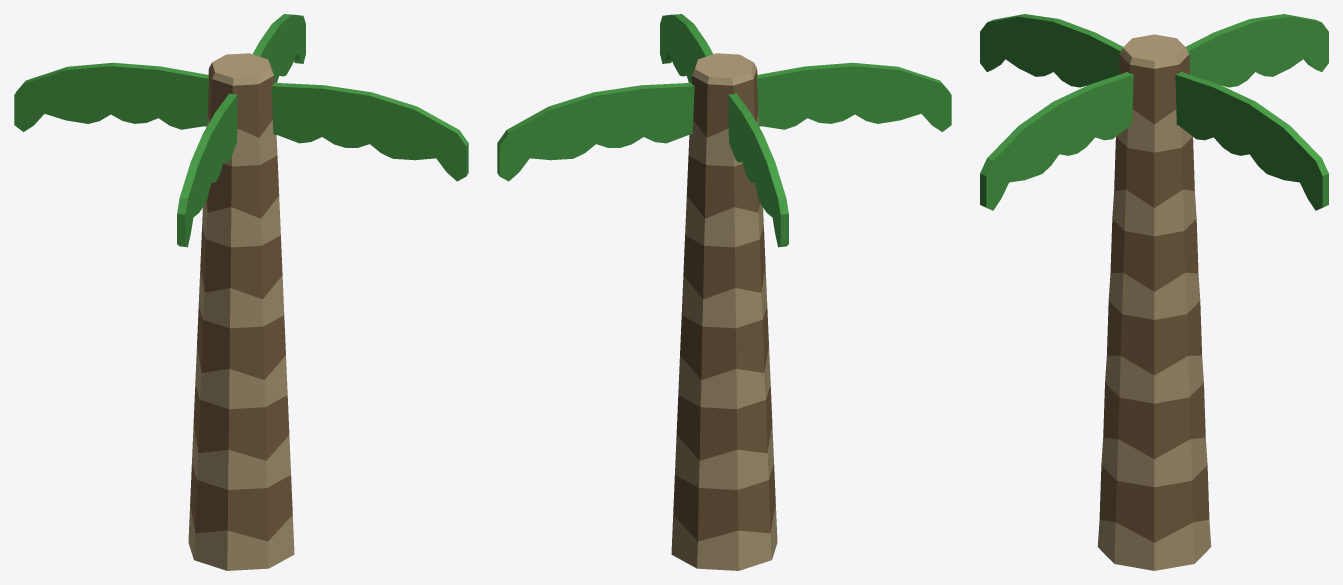
Rendered from Palmtree1 1.fbx.
3 renders of one model, left to right at view 1: azimuth 30°, elevation 25°; view 2: azimuth 150°, elevation 25°; view 3: azimuth 270°, elevation 25°, orthographic. The views are drawn at different scales.
Visible parts, largest first — view 1: Cube; view 2: Cube; view 3: Cube.
Boxes of the visible parts, left/top/right/bottom form: Cube: left=14, top=14, right=468, bottom=570; Cube: left=497, top=14, right=951, bottom=570; Cube: left=980, top=14, right=1328, bottom=570.
Bounding box in the file's own units: 613 × 971 × 615.
